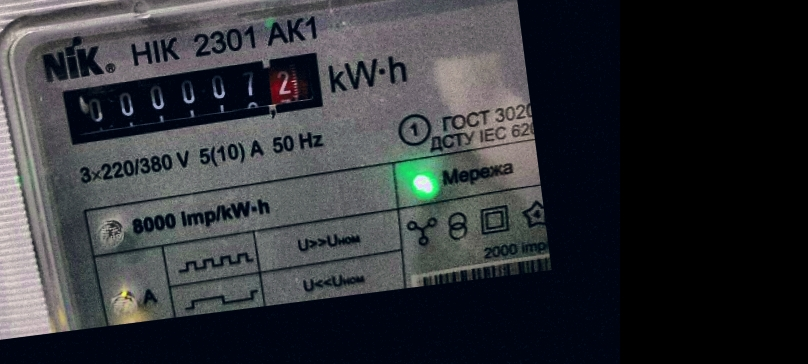0: (84, 94, 105, 123), (146, 81, 166, 111), (177, 76, 197, 105), (208, 71, 227, 101), (116, 88, 135, 117)
2: (273, 68, 293, 96)
7: (239, 66, 258, 98)
screen: (49, 44, 336, 151)
